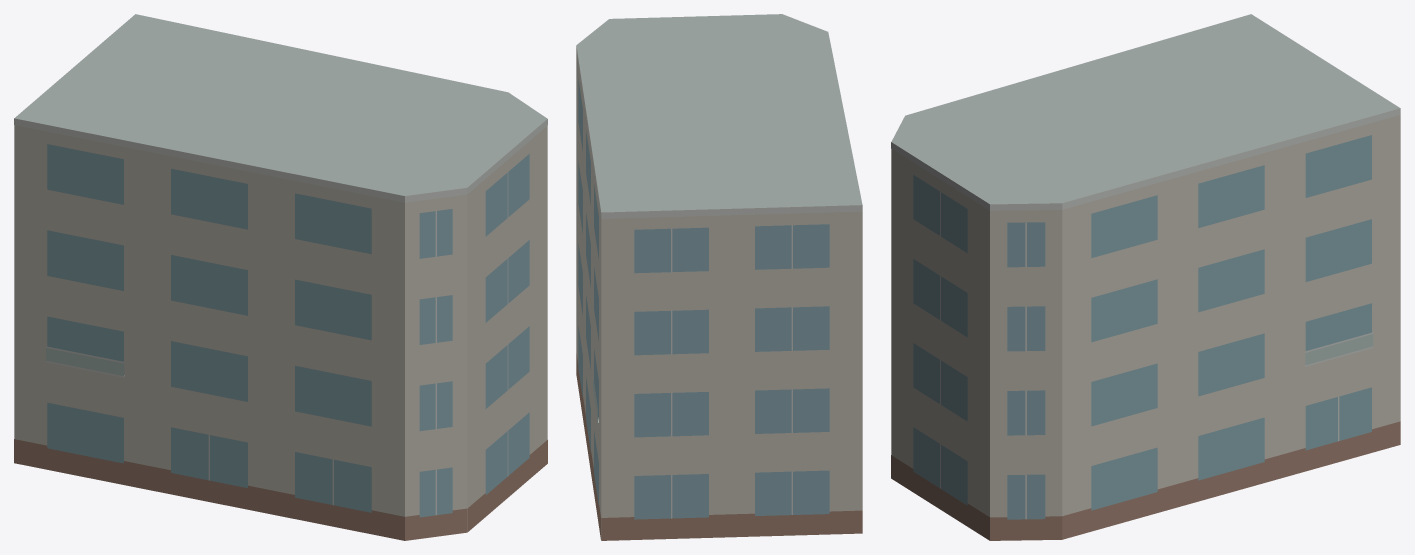
Rendered from survey-upis-32941007.glb.
3 views of the same model, side by side, from view 1: azimuth 30°, elevation 25°; view 2: azimuth 150°, elevation 25°; view 3: azimuth 270°, elevation 25° (orthographic). The views are drawn at different scales.
Parts seen in each view (by area): view 1: survey-upis-32941007.tmp; view 2: survey-upis-32941007.tmp; view 3: survey-upis-32941007.tmp.
Boxes of the visible parts, x1=… form: survey-upis-32941007.tmp: x1=14, y1=14, x2=547, y2=540; survey-upis-32941007.tmp: x1=576, y1=14, x2=862, y2=540; survey-upis-32941007.tmp: x1=891, y1=14, x2=1400, y2=540.
Bounding box in the file's own units: 15.3 × 12.6 × 17.3.
